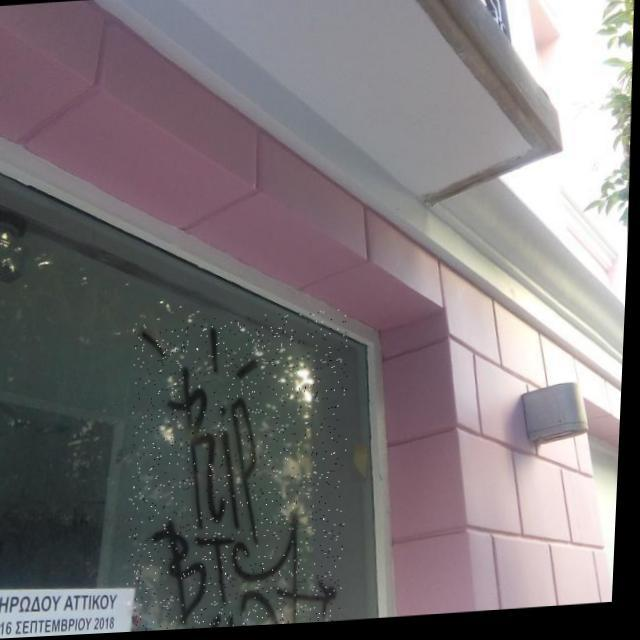-: (125, 312, 358, 634)
